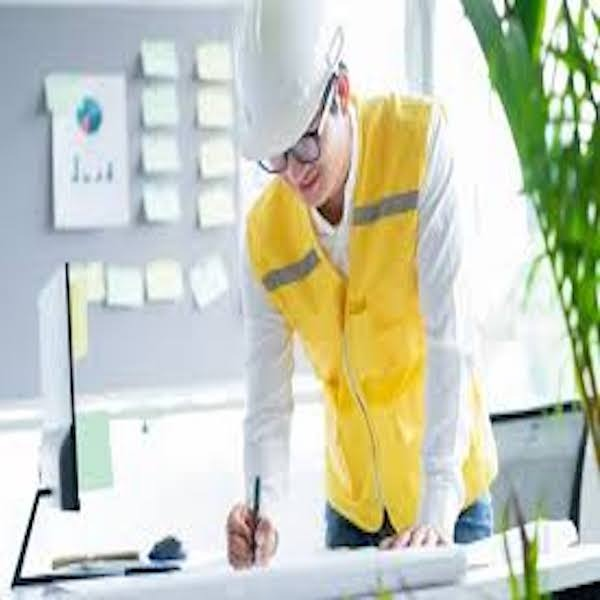helmet: (226, 4, 352, 159)
vest: (321, 127, 433, 529)
